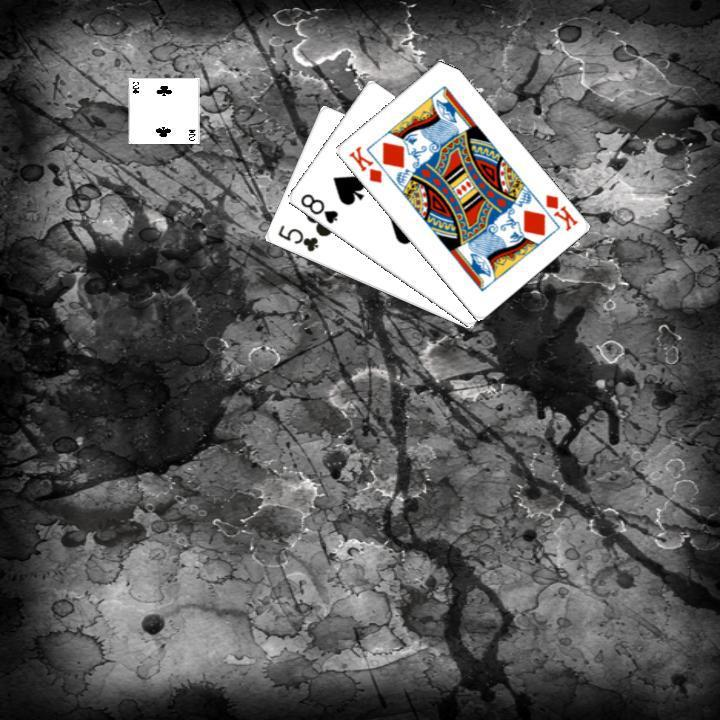5: (273, 221, 320, 254)
8: (295, 189, 340, 226)
K: (344, 141, 384, 186), (540, 190, 580, 233)
